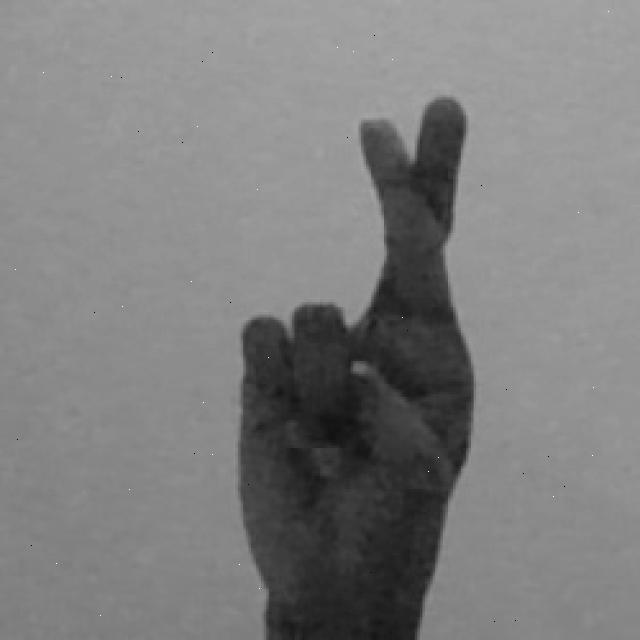R: (226, 88, 486, 640)
